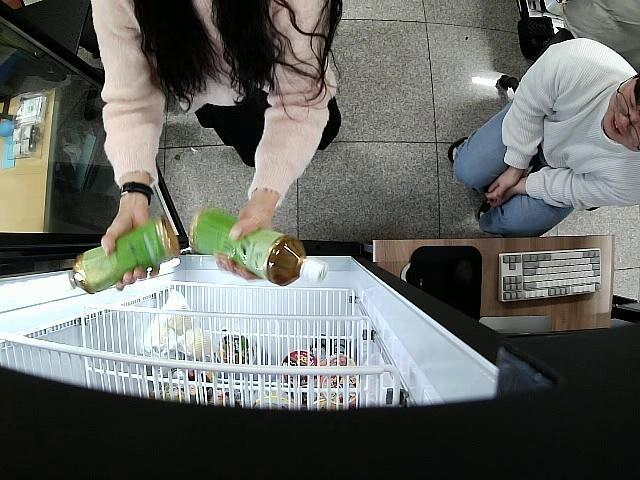19_17cha: (188, 207, 328, 289), (62, 220, 182, 294)
